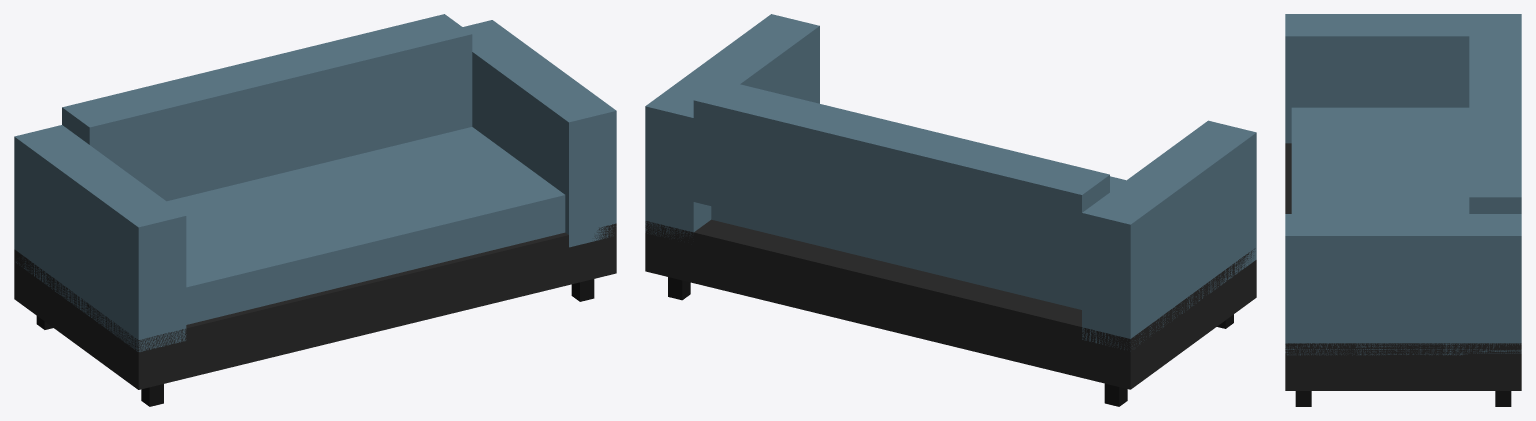
Rendered from sofa.glb.
3 views of the same model, side by side, from view 1: azimuth 30°, elevation 25°; view 2: azimuth 150°, elevation 25°; view 3: azimuth 270°, elevation 25° (orthographic). The views are drawn at different scales.
Size of the model in its own units: 2 by 0.82 by 0.9.
